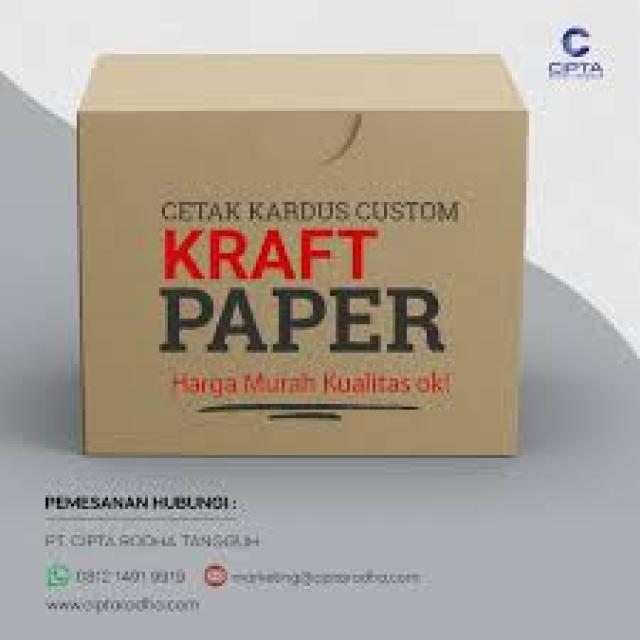Kardus kondisi bagus: (80, 53, 529, 458)
